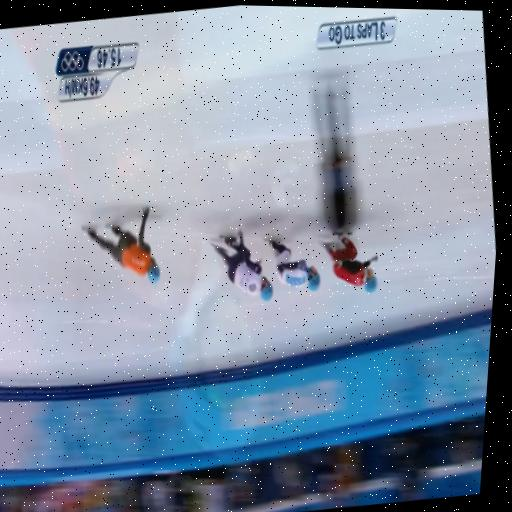Skater: (83, 207, 159, 283), (211, 231, 272, 300), (321, 233, 377, 292), (268, 239, 320, 290)
